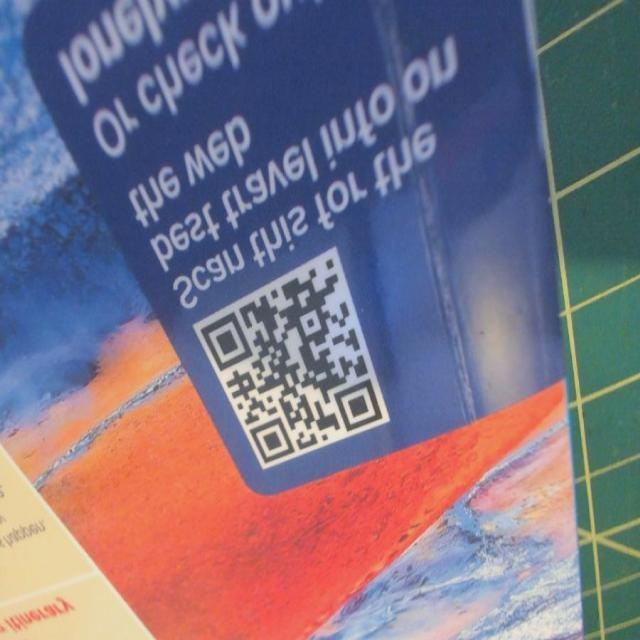qr-code: (189, 245, 388, 492)
